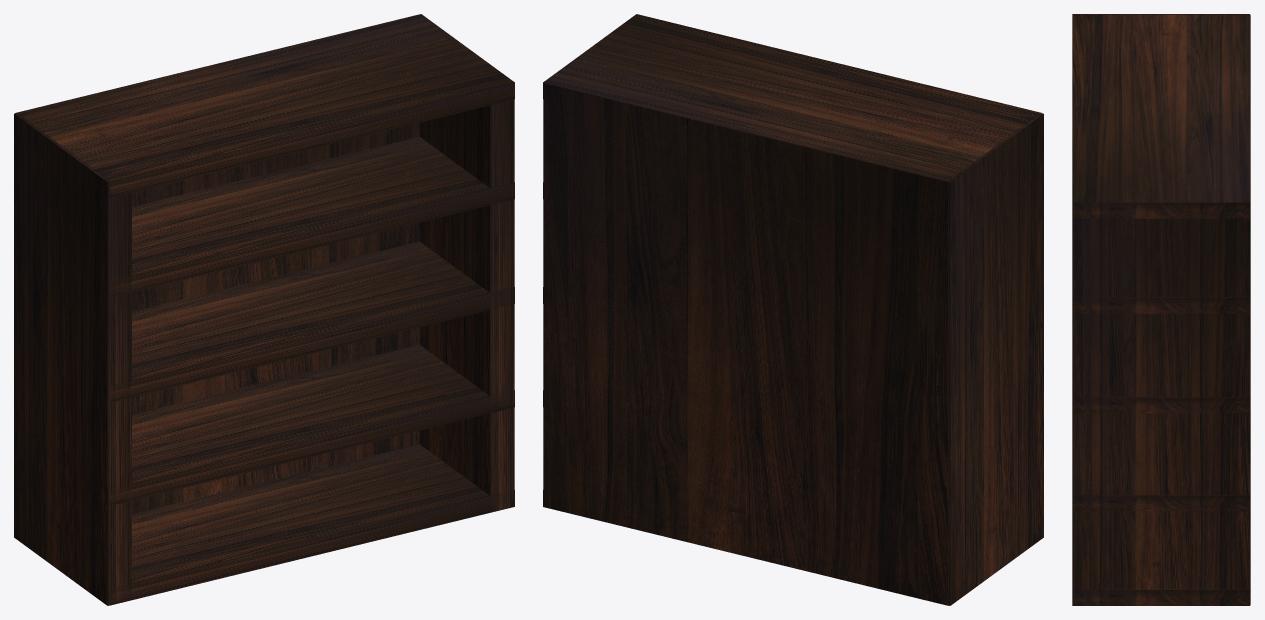
File: Bookshelf.FBX
3 renders of one model, left to right at view 1: azimuth 30°, elevation 25°; view 2: azimuth 150°, elevation 25°; view 3: azimuth 270°, elevation 25°, orthographic. The views are drawn at different scales.
Parts seen in each view (by area): view 1: BooShelf; view 2: BooShelf; view 3: BooShelf.
Boxes of the visible parts, x1,y1,x2,y2 form: BooShelf: [14, 14, 514, 605]; BooShelf: [543, 14, 1043, 605]; BooShelf: [1072, 14, 1250, 605].
Bounding box in the file's own units: 50.3 × 50.06 × 20.09.
Materials: 1 (1 with a texture image).
